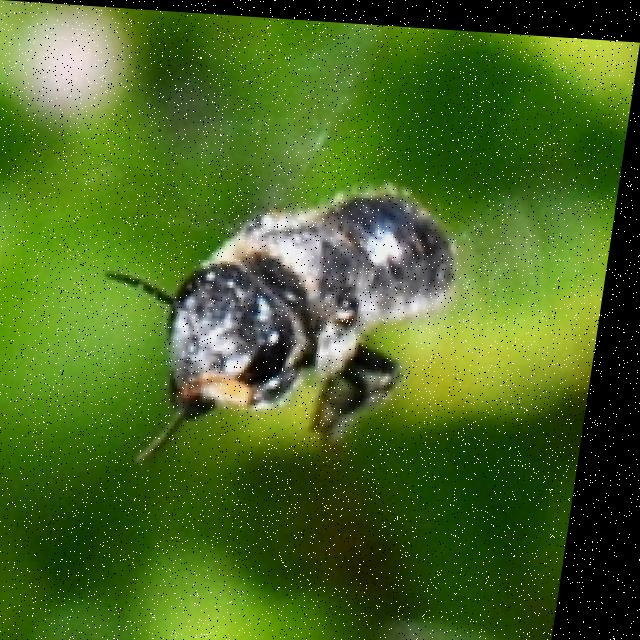Allodapula: (87, 91, 498, 493)
